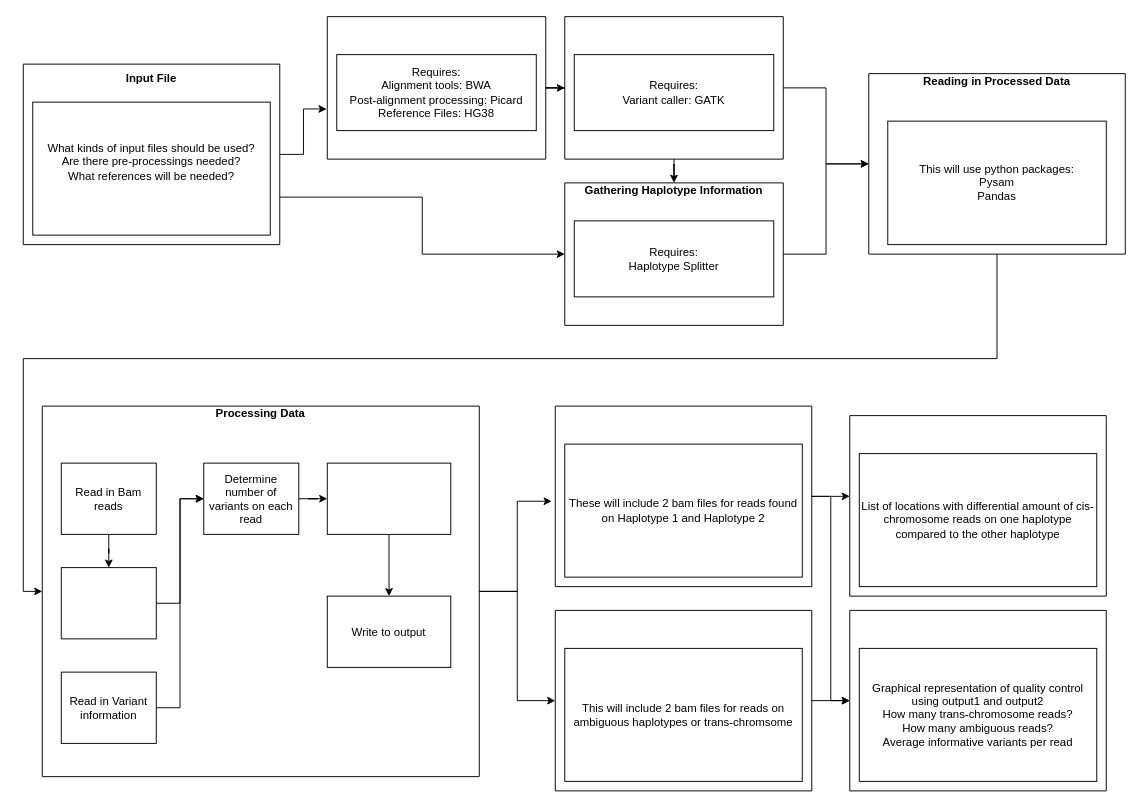
The diagram is 1142 pixels wide and 808 high, and some of its shapes have lost their labels. Each missing label, with the box of its shape:
Determine if good or bad read: (60, 567, 156, 639)
Determine most likely Haplotype of each read: (326, 462, 451, 534)
Gathering Variant Information: (564, 16, 783, 159)
Output 4: (849, 415, 1106, 596)
Output File 1:: (554, 405, 812, 587)
Output File 2:: (554, 609, 812, 791)
Output File 3:: (849, 609, 1106, 791)
Pre-processing data: (326, 16, 546, 159)
